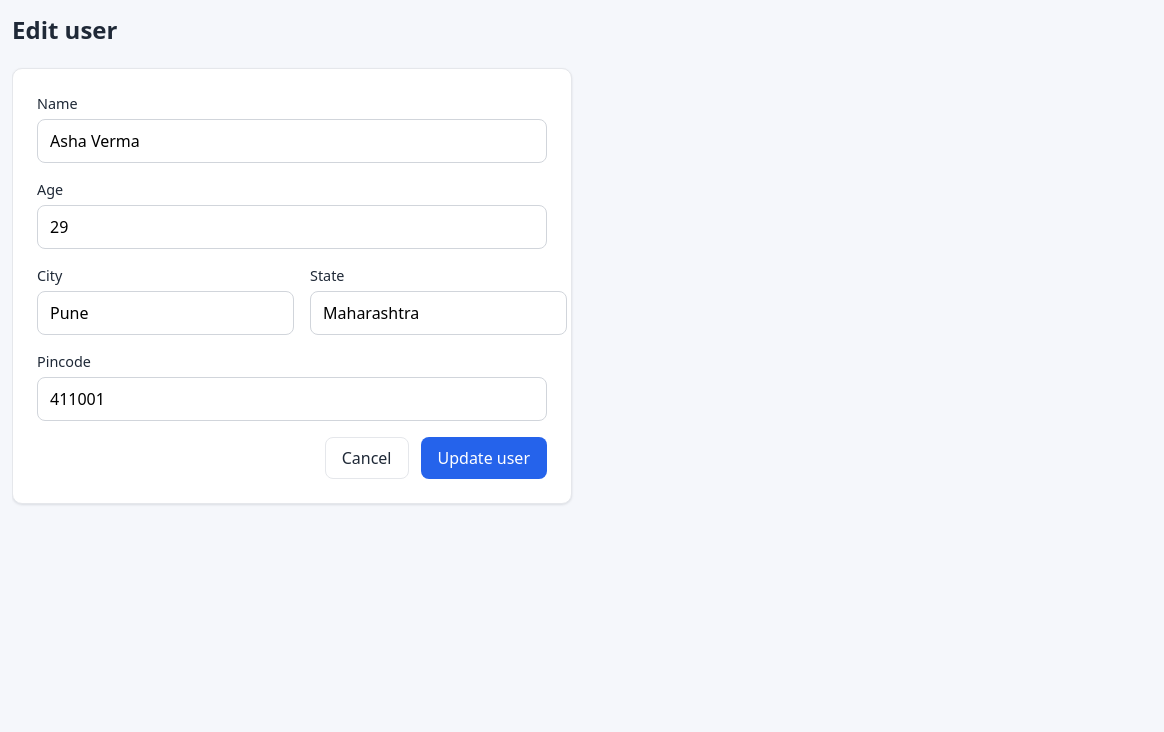
Test case: EditUserPage › saves changes, redirects to the list and shows a success toast
Replace the text in the field labelled "City" with "Mumbai": x=166, y=313 [37,291,294,335]
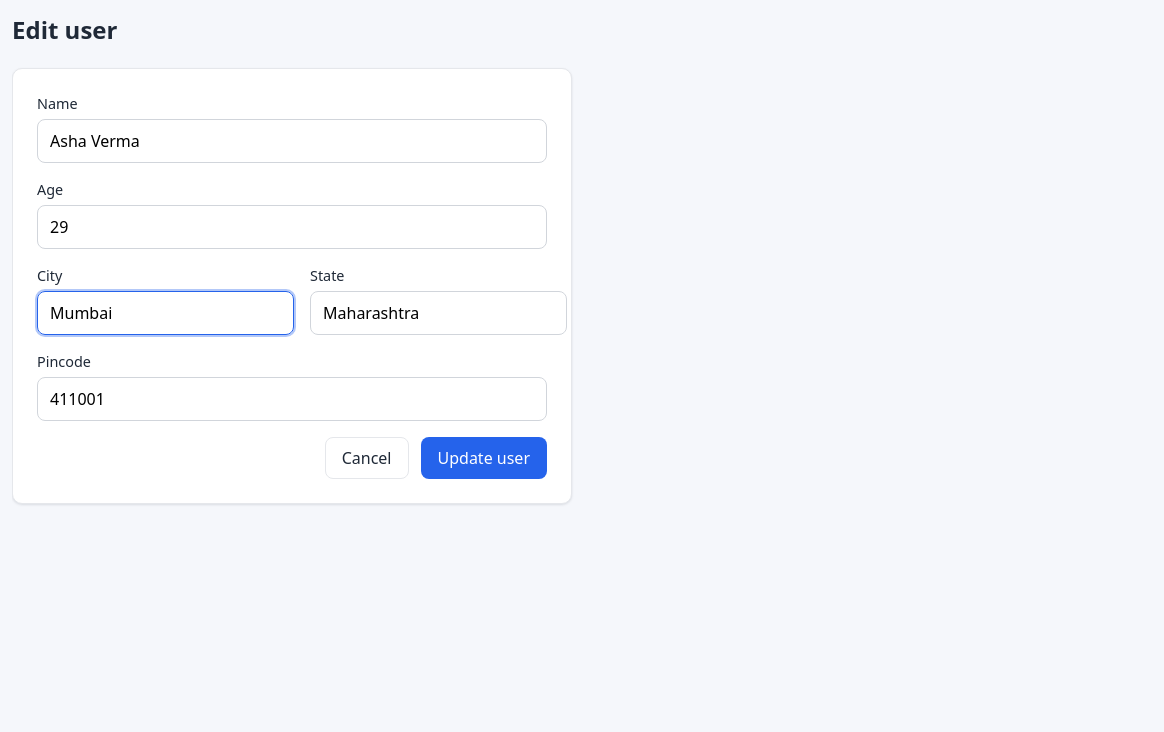
Click the button "Update user": x=484, y=458 [420,437,547,479]
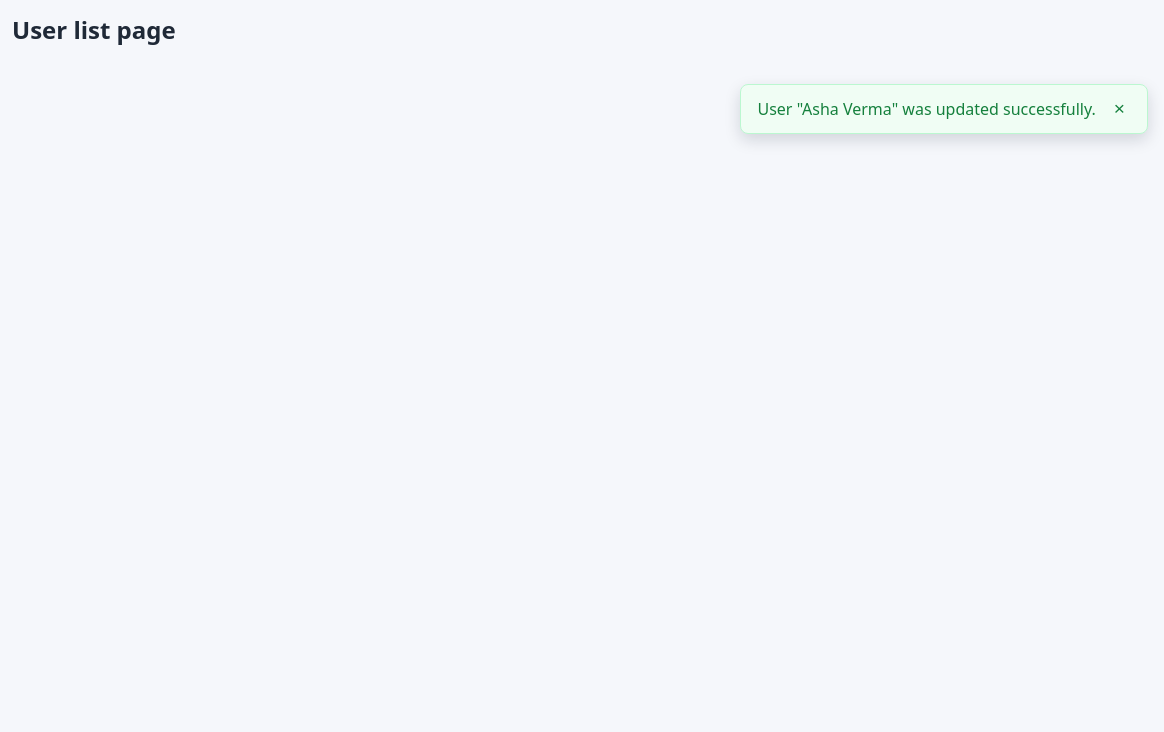
Check: the heading "User list page" is shown, box [12,13,176,46]
Check: the message shows "User \"Asha Verma\" was updated successfully.", box [758,98,1096,120]
